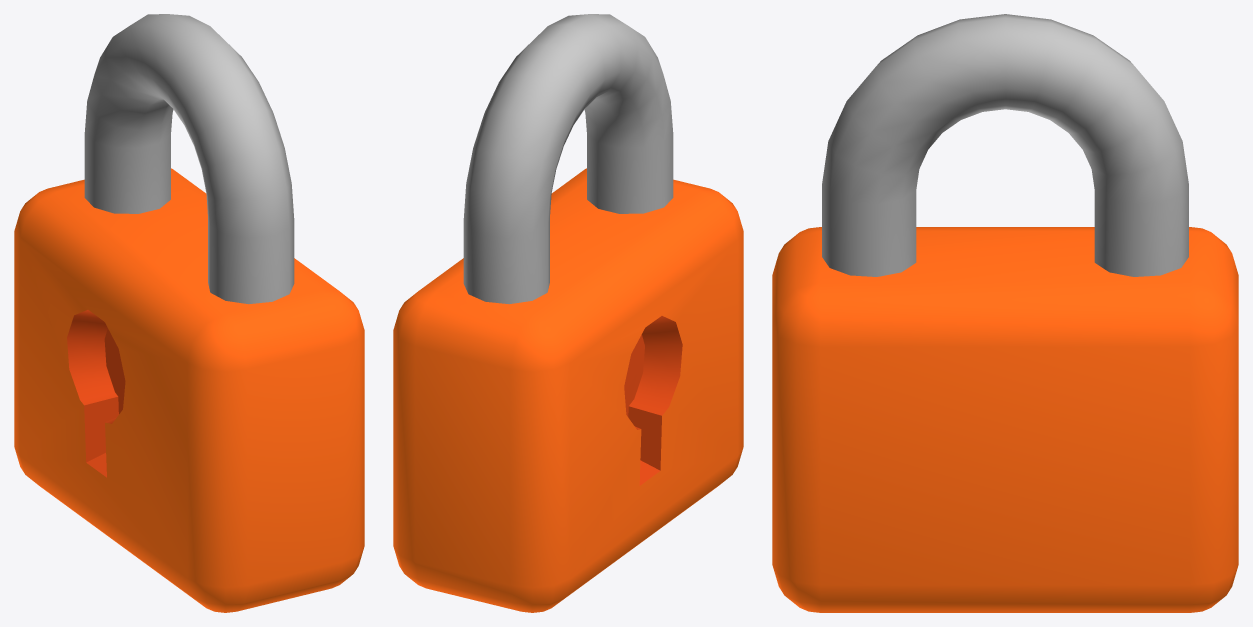
Rendered from lock.fbx.
The picture shows the model from 3 angles, left to right: view 1: azimuth 30°, elevation 25°; view 2: azimuth 150°, elevation 25°; view 3: azimuth 270°, elevation 25°; orthographic projection. The views are drawn at different scales.
Parts seen in each view (by area): view 1: Cube, Torus; view 2: Cube, Torus; view 3: Cube, Torus.
Boxes of the visible parts, box(x1,y1,x2,y2) form: Cube: box(14, 168, 364, 612); Torus: box(84, 14, 294, 304); Cube: box(393, 168, 743, 612); Torus: box(463, 14, 673, 304); Cube: box(772, 227, 1238, 612); Torus: box(822, 14, 1188, 276).
Size of the model in its own units: 59.68 by 167 by 125.
